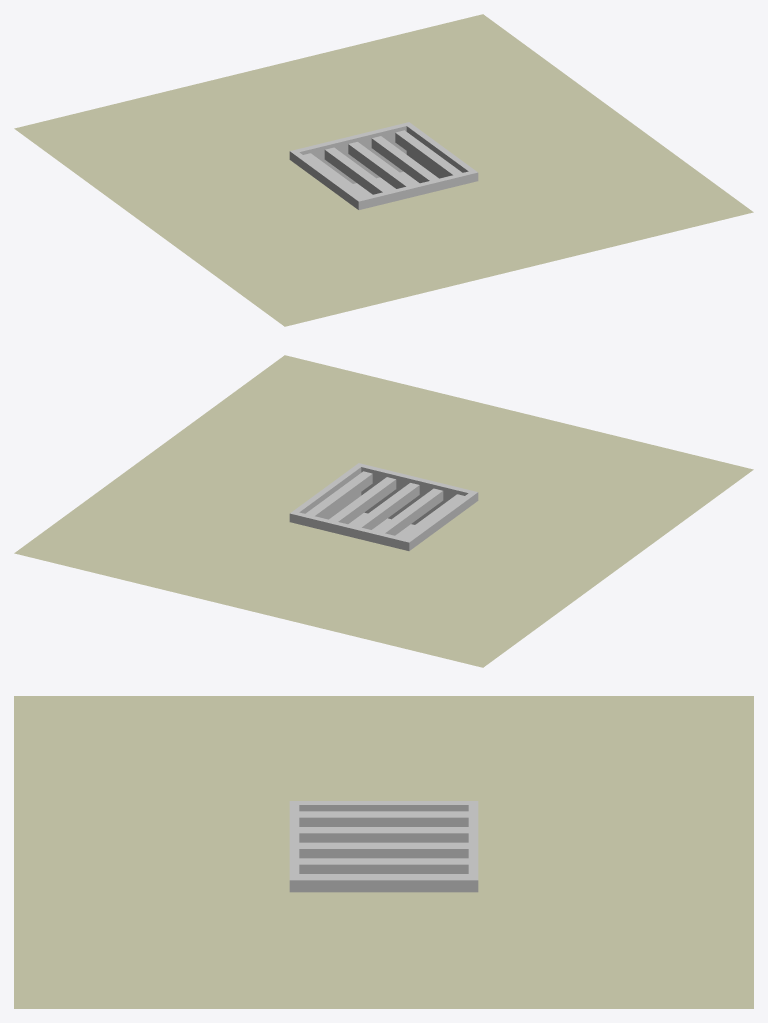
Rendered from Floor_Vent.fbx.
The picture shows the model from 3 angles, top to bottom: view 1: azimuth 30°, elevation 25°; view 2: azimuth 150°, elevation 25°; view 3: azimuth 270°, elevation 25°; orthographic projection. The views are drawn at different scales.
Visible parts, largest first — view 1: Floor_Vent; view 2: Floor_Vent; view 3: Floor_Vent.
Boxes of the visible parts, bbox=[...] form: Floor_Vent: bbox=[14, 14, 753, 326]; Floor_Vent: bbox=[14, 355, 753, 667]; Floor_Vent: bbox=[14, 696, 753, 1008].
Bounding box in the file's own units: 200 × 18.29 × 200.
